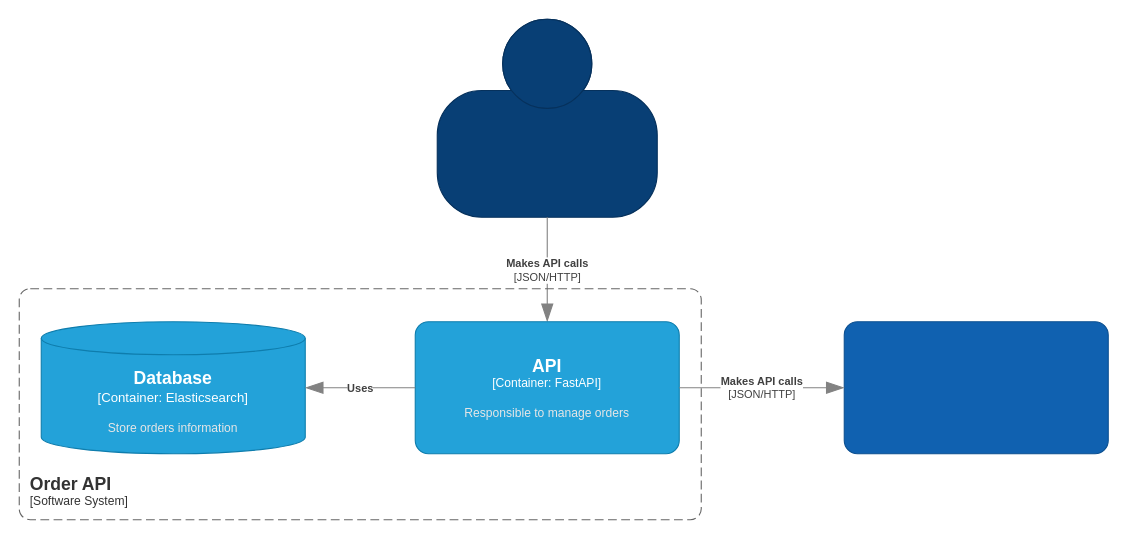
Some shapes in this 1128 by 539 pixel diagram are drawn without their labels. The centre of each missing label's shape, as x and y in pixels:
"Client [Person] A cliente who can manage orders" belongs at (546,117).
"User API [Software System] Responsible to manage users" belongs at (975,387).
